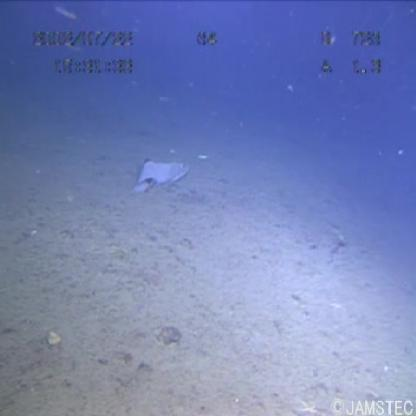Rác: (122, 152, 200, 196)
